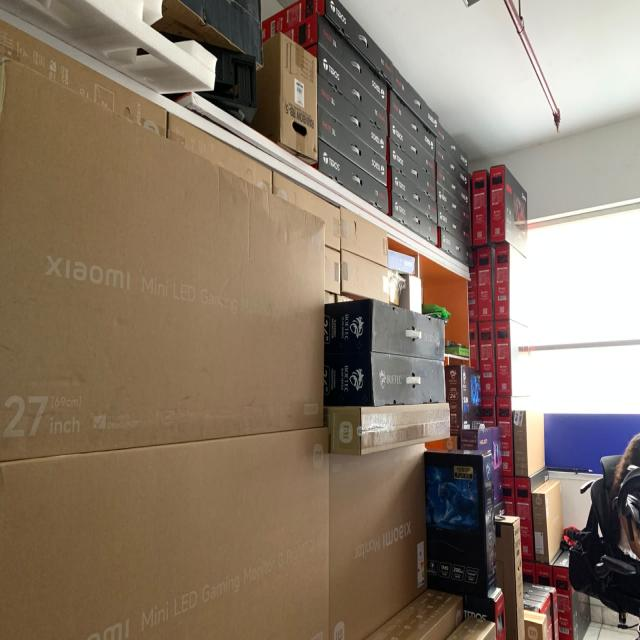caja-monitor: (5, 60, 325, 459), (0, 426, 331, 639), (331, 448, 427, 639), (263, 1, 393, 88), (426, 448, 497, 598), (282, 14, 387, 109), (324, 302, 445, 359), (326, 354, 445, 407), (318, 48, 388, 137), (317, 104, 388, 188), (330, 403, 449, 452), (318, 75, 386, 159), (318, 138, 389, 215), (274, 172, 341, 253), (370, 588, 463, 639), (429, 587, 505, 639), (495, 514, 526, 639), (489, 165, 528, 255), (461, 425, 504, 505), (553, 550, 591, 639), (393, 66, 439, 137), (515, 467, 549, 560), (496, 397, 536, 476), (390, 90, 435, 158), (389, 115, 435, 179), (495, 319, 533, 396), (389, 141, 436, 201), (340, 207, 387, 267), (495, 246, 530, 325), (532, 479, 564, 563), (392, 166, 438, 224), (446, 365, 482, 435), (342, 252, 389, 304), (392, 192, 438, 245), (513, 409, 545, 476), (523, 581, 559, 639), (435, 140, 468, 188), (436, 124, 468, 173), (523, 587, 553, 639), (436, 183, 470, 226), (478, 321, 497, 396), (437, 163, 469, 207), (477, 247, 495, 322), (440, 228, 474, 267), (438, 205, 470, 245), (473, 171, 490, 245), (447, 618, 497, 639), (536, 549, 563, 586), (525, 609, 548, 639), (524, 593, 548, 615), (469, 323, 480, 370), (503, 477, 515, 515), (482, 397, 495, 425), (522, 559, 535, 583), (524, 600, 543, 613)
